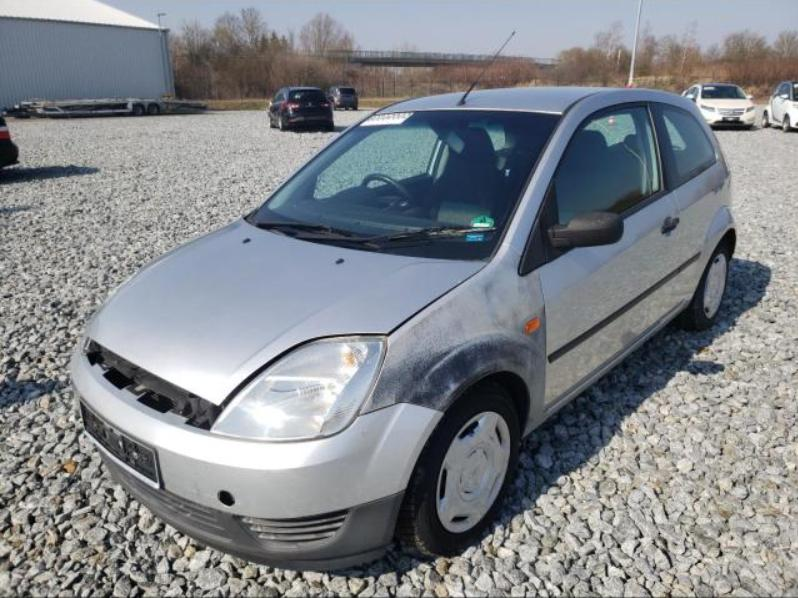Broken part: (218, 267, 477, 412)
Corrosion: (360, 273, 547, 430)
Missing part: (82, 338, 217, 431), (80, 401, 157, 485), (218, 491, 234, 507)
